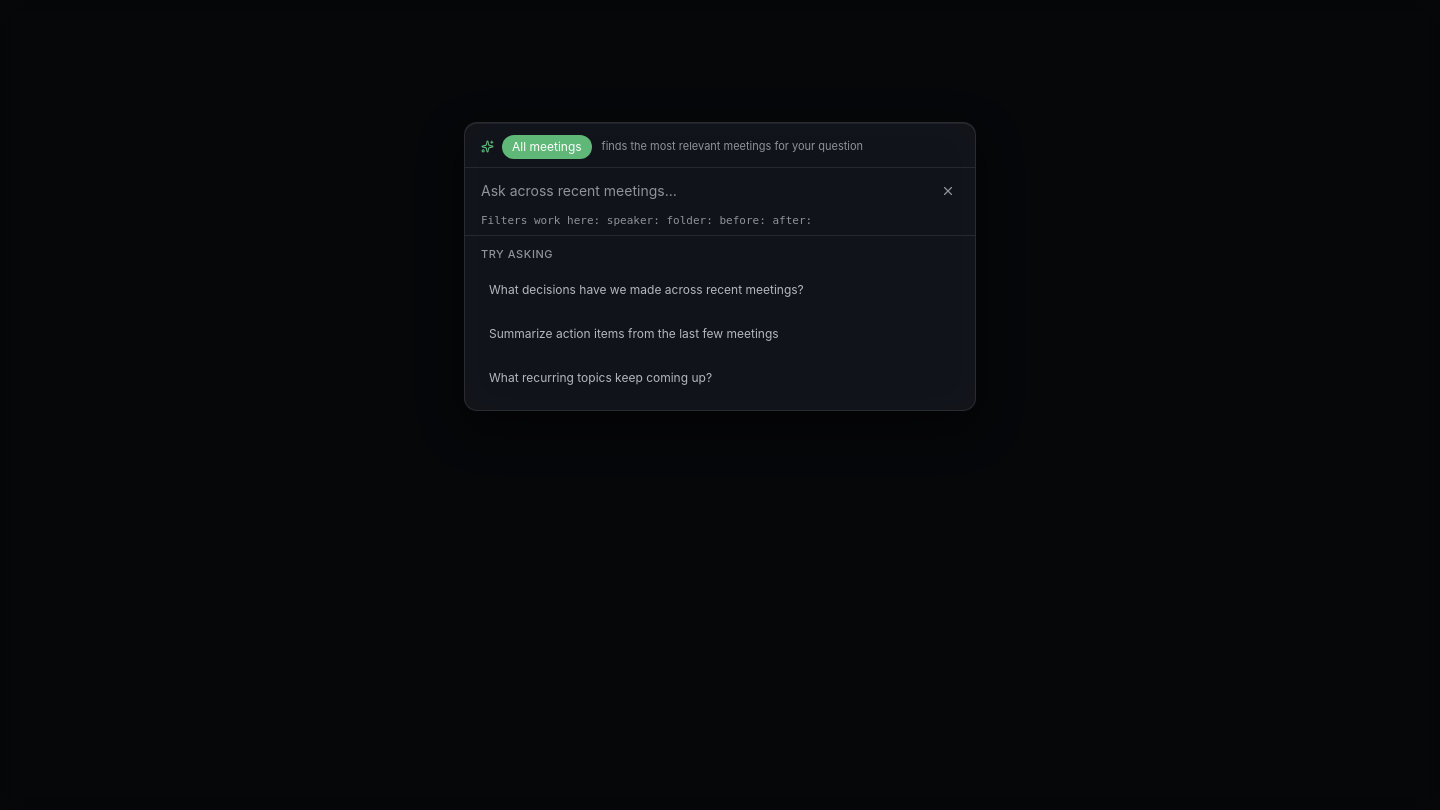
Test: AskAIOverlay citation chips › renders matched [n] tokens as chips and leaves hallucinated ones as text
Type "when does feature x ship?" into the field labelled "Ask across recent meetings".
click(703, 190); type("when does feature x ship?")  # box [481,180,925,200]
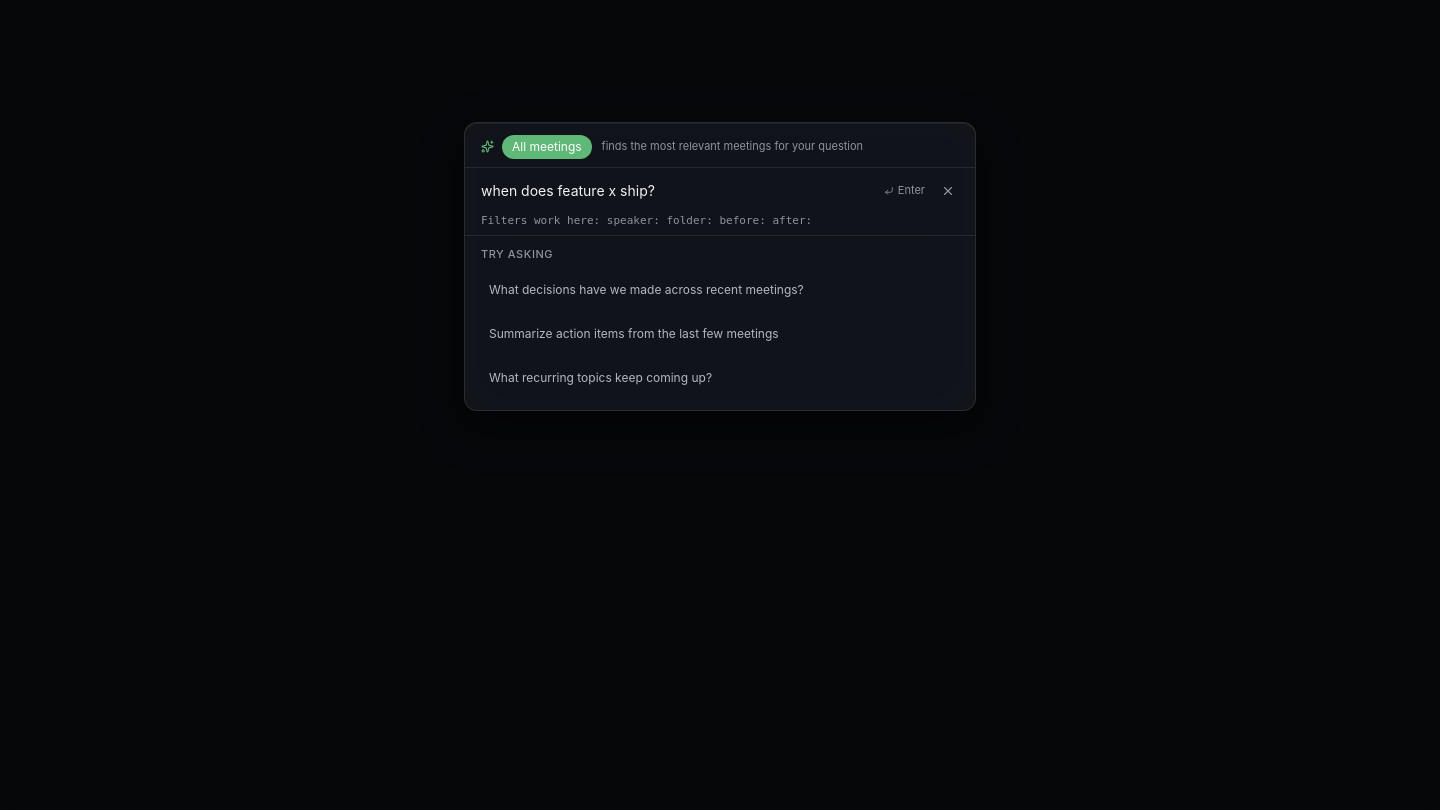
Press Enter in the field named "Ask across recent meetings", box [481,180,872,200]
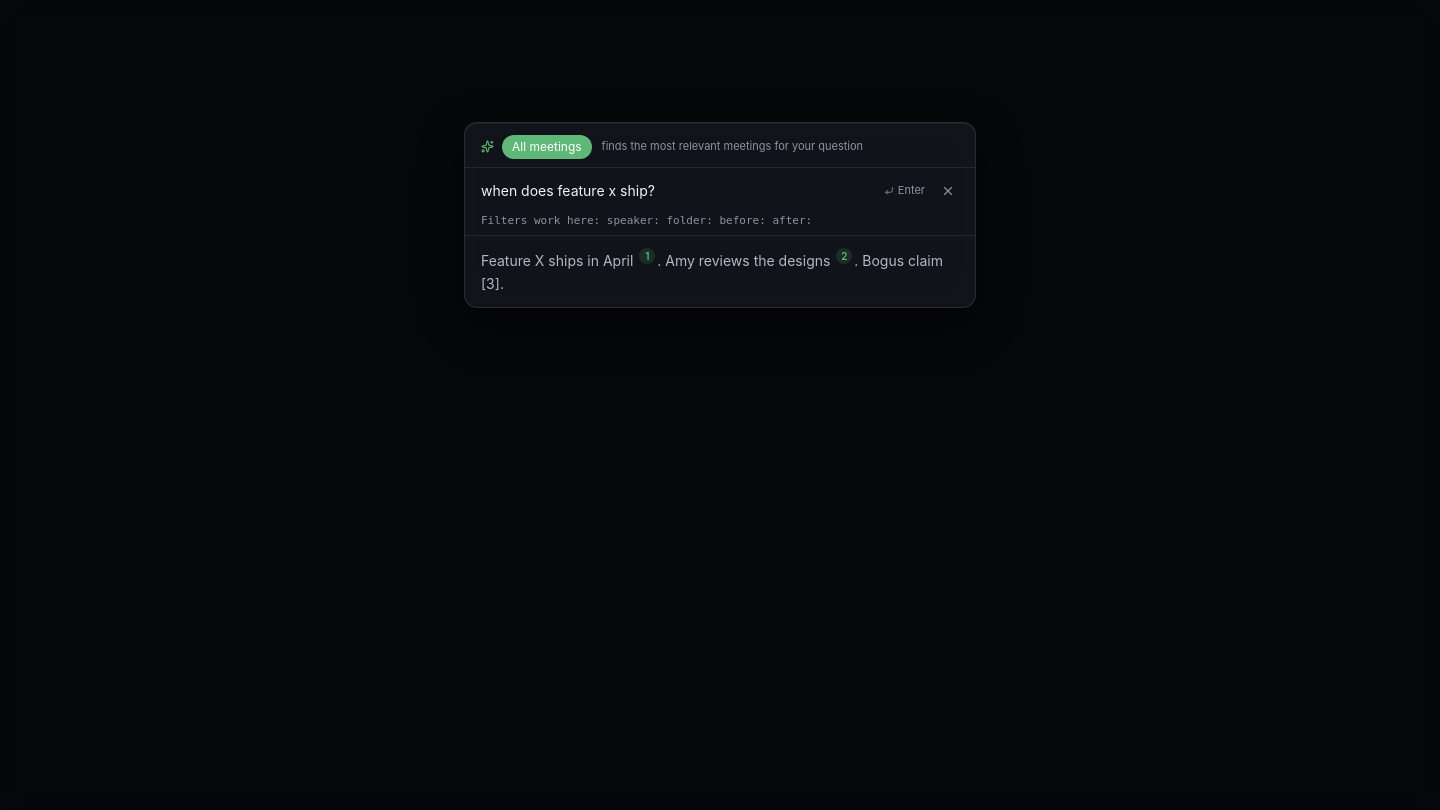
expect the button named "Open source 2: Standup" is shown: met, box [836,248,852,264]
expect the dialog named "Ask AI" shows "Bogus claim [3].": met, box [464,122,976,308]
